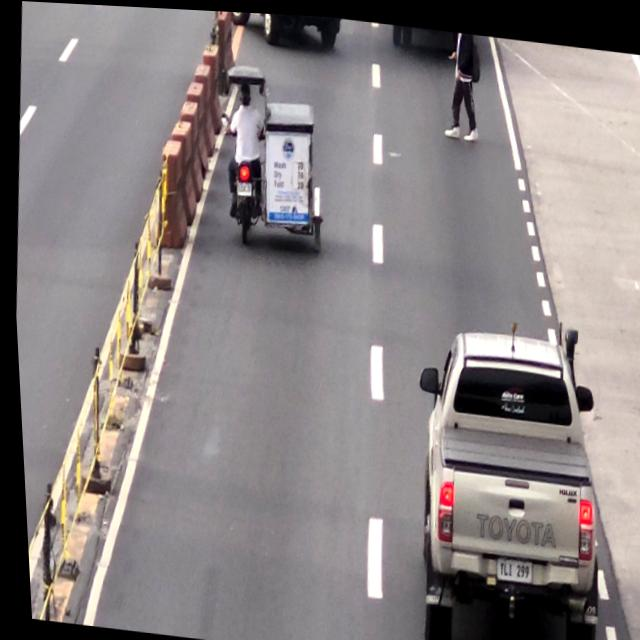Car: (406, 322, 606, 640)
License-Plate: (489, 552, 528, 578), (233, 176, 252, 195)
Tricycle: (214, 67, 326, 253)
